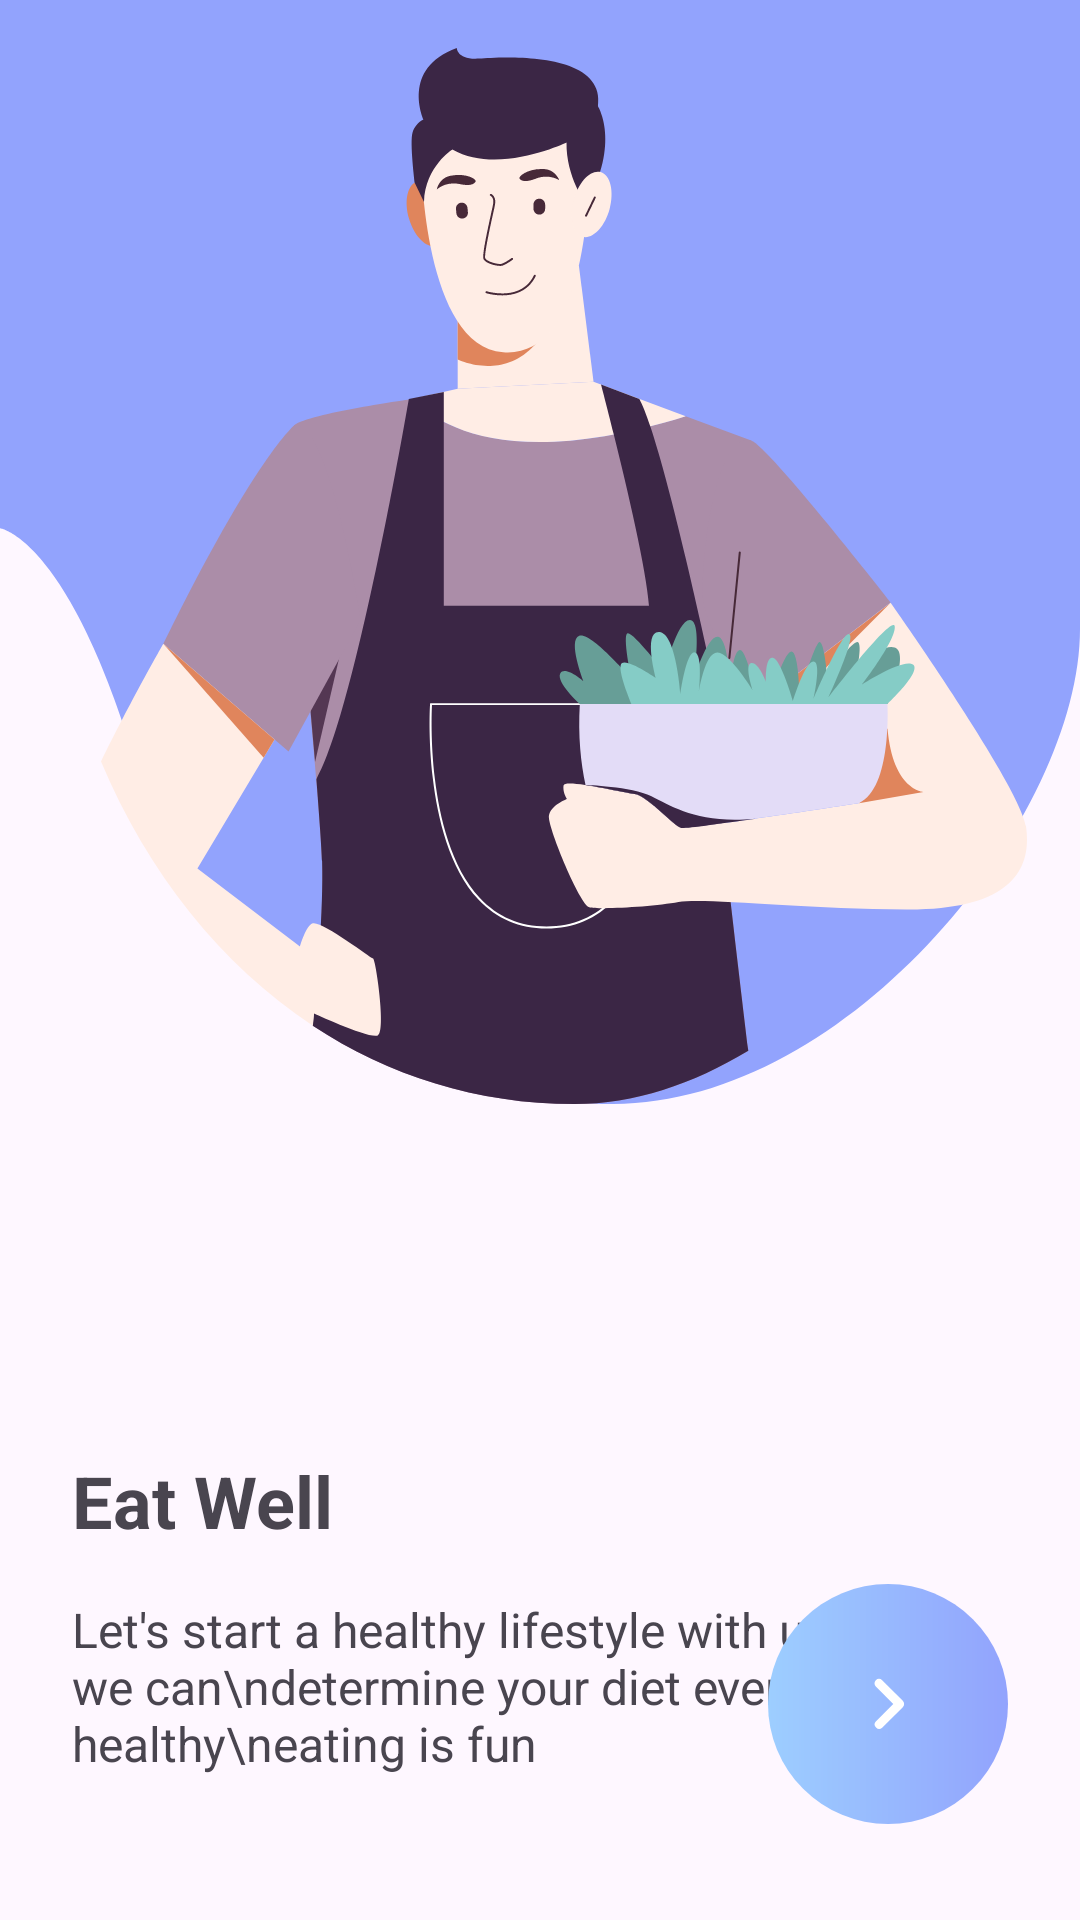

Where icons sit on this 1080px x 1920px app screen, as (x1, y1, x2, y2):
right arrow: (768, 1584, 1008, 1824)
